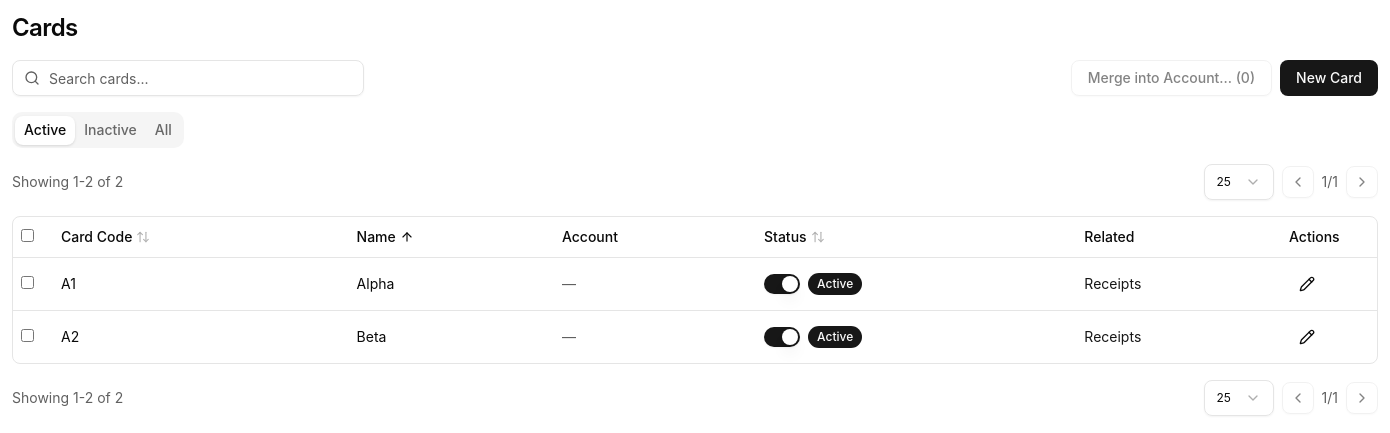
Test: Cards › merge button is disabled until at least 2 cards are selected
Expected: the button with aria-label "merge selected cards" is disabled, [1071,60,1272,96]
Click the checkbox named "Select Alpha": click(28, 282) [21,276,34,288]
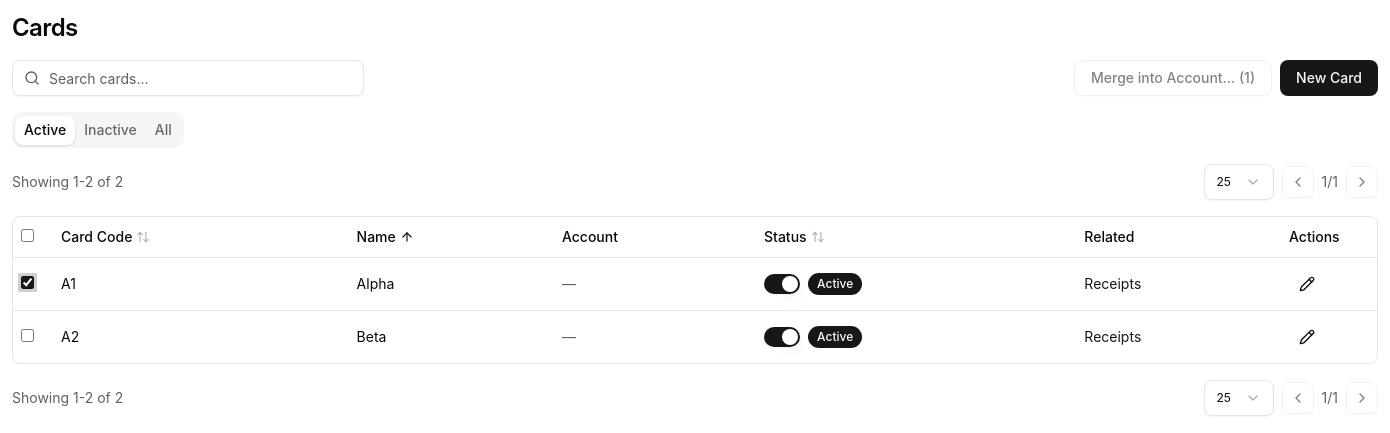
Expected: the button with aria-label "merge selected cards" is disabled, [1074,60,1272,96]
Click the checkbox named "Select Beta": click(28, 335) [21,328,34,342]
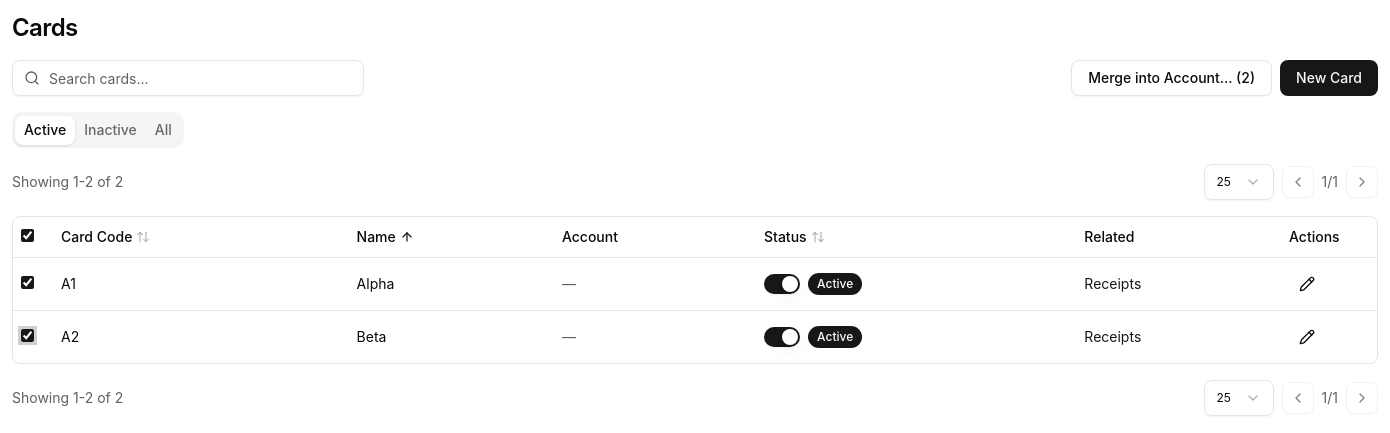
Now the button with aria-label "merge selected cards" is enabled, box [1071,60,1272,96]
